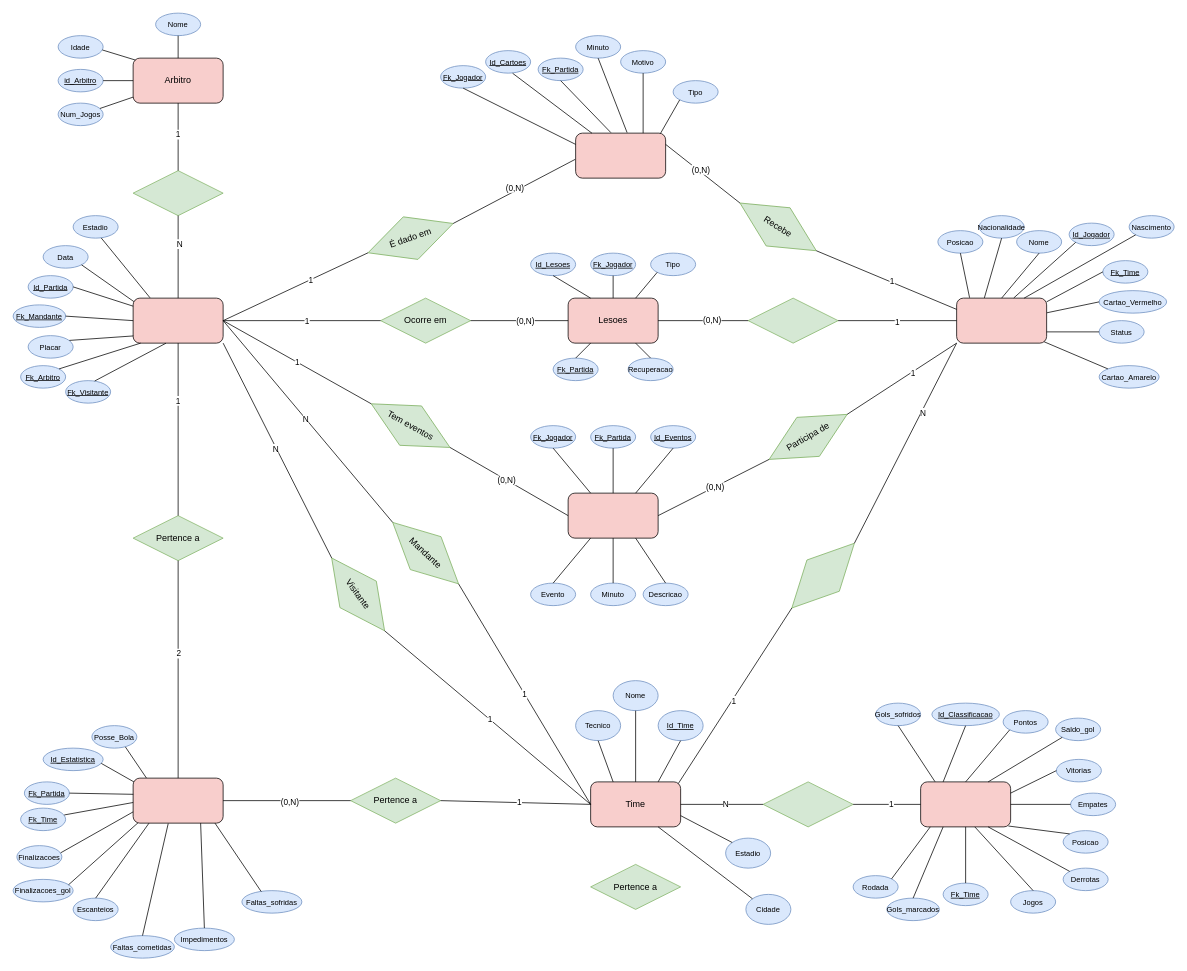
Some shapes in this 1187 by 971 pixel diagram are drawn without their labels. The centre of each missing label's shape, as x and y in pixels:
"Apita" goes at (x=177, y=193).
"Cartoes" goes at (x=620, y=155).
"Classificacao" goes at (x=965, y=804).
"Estatistica" goes at (x=177, y=800).
"Eventos" goes at (x=612, y=515).
"Joga para" goes at (x=823, y=575).
"Jogador" goes at (x=1001, y=320).
"Partida" goes at (x=177, y=320).
"Sofre" goes at (x=792, y=320).
"É atribuída a" goes at (x=807, y=804).
